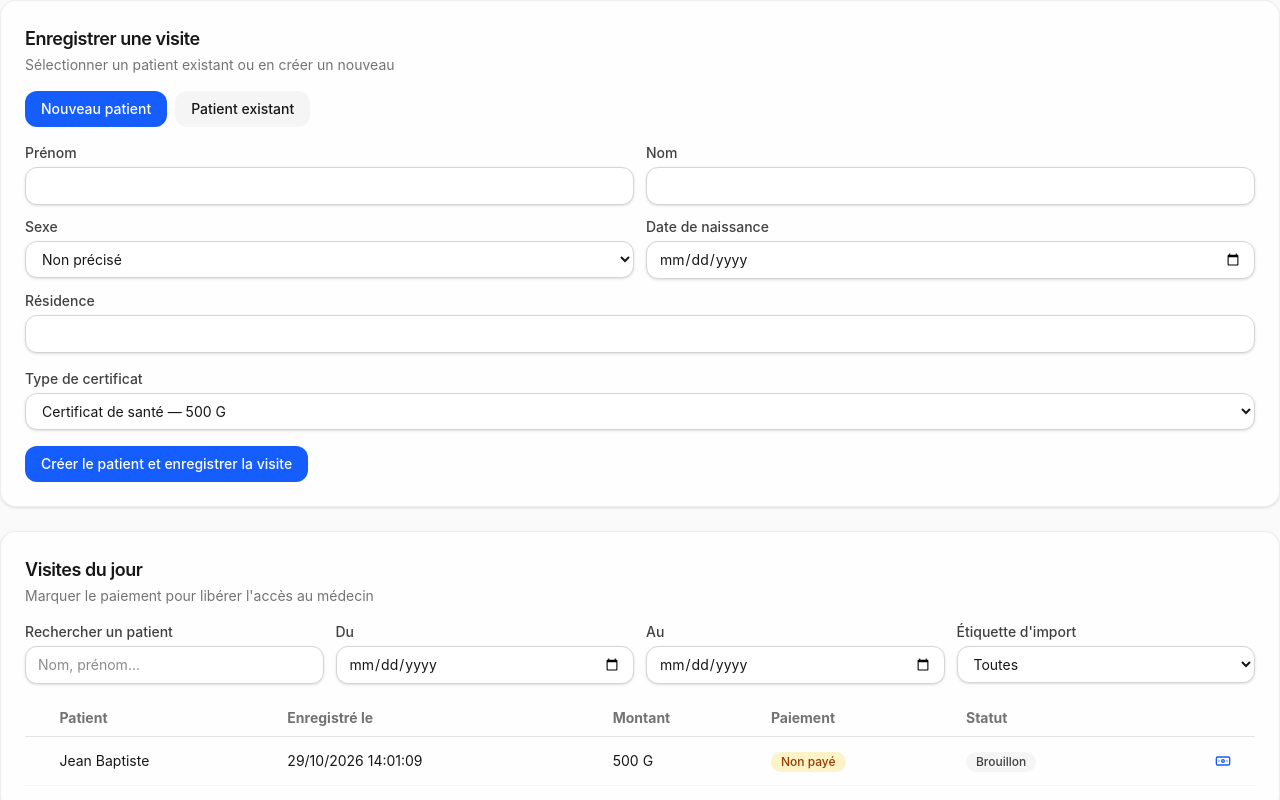
Test: ReceptionPage › switches to the existing-patient search
Expected: the field labelled "Prénom" is shown, [25,167,634,205]
Click the button "Patient existant". click: click(243, 109)
box: [175,91,310,127]
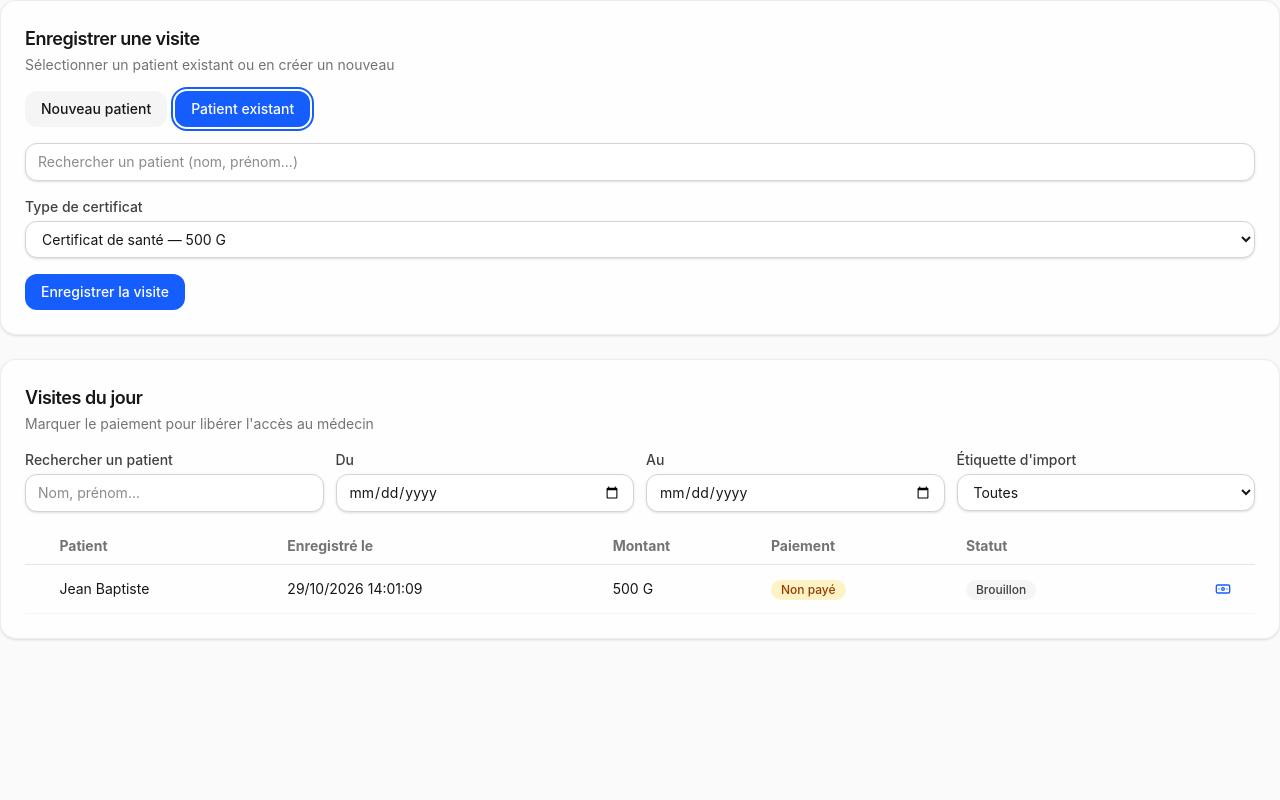
Result: the field with placeholder "Rechercher un patient (nom, prénom...)" is shown at [25,143,1255,181]
